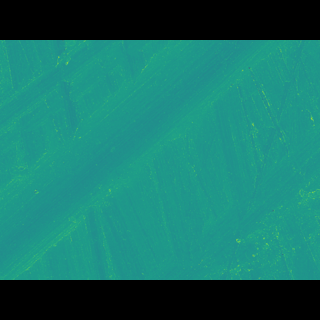Loch: (3, 69, 275, 251), (133, 136, 320, 250), (194, 195, 303, 248)
